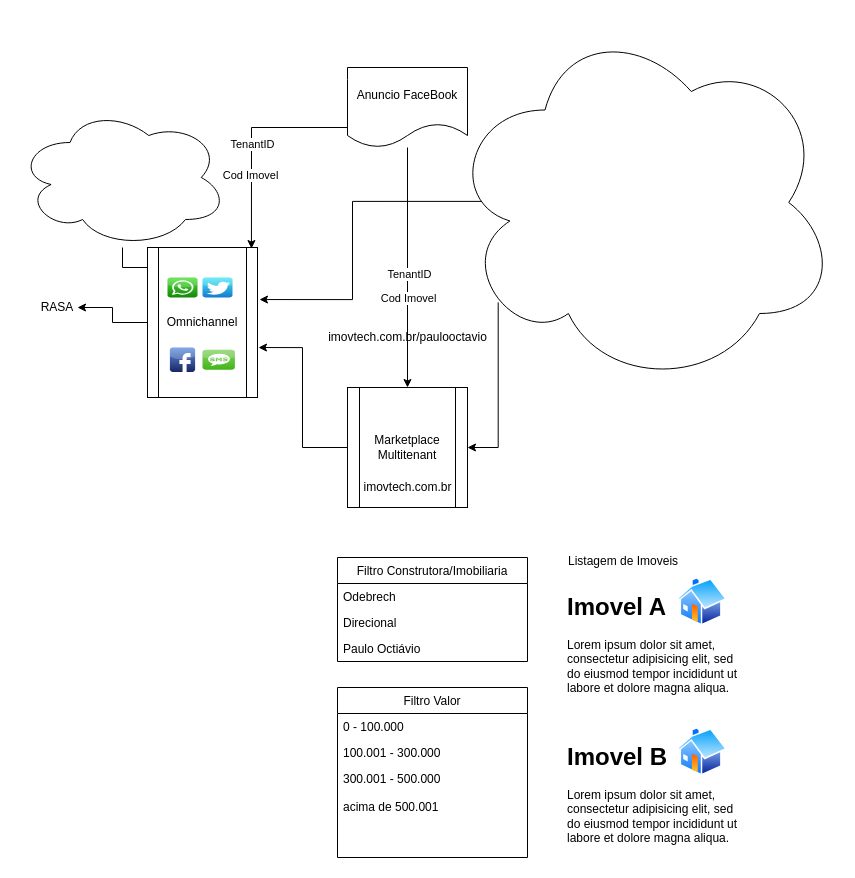
This 855x878 diagram has some shape labels left out. The centre of each missing label's shape, as x and y in pixels:
"100k - Compradores e investidores" belongs at (x=642, y=202).
"Vendedores de imoveis e emprendimentos" belongs at (x=122, y=177).
